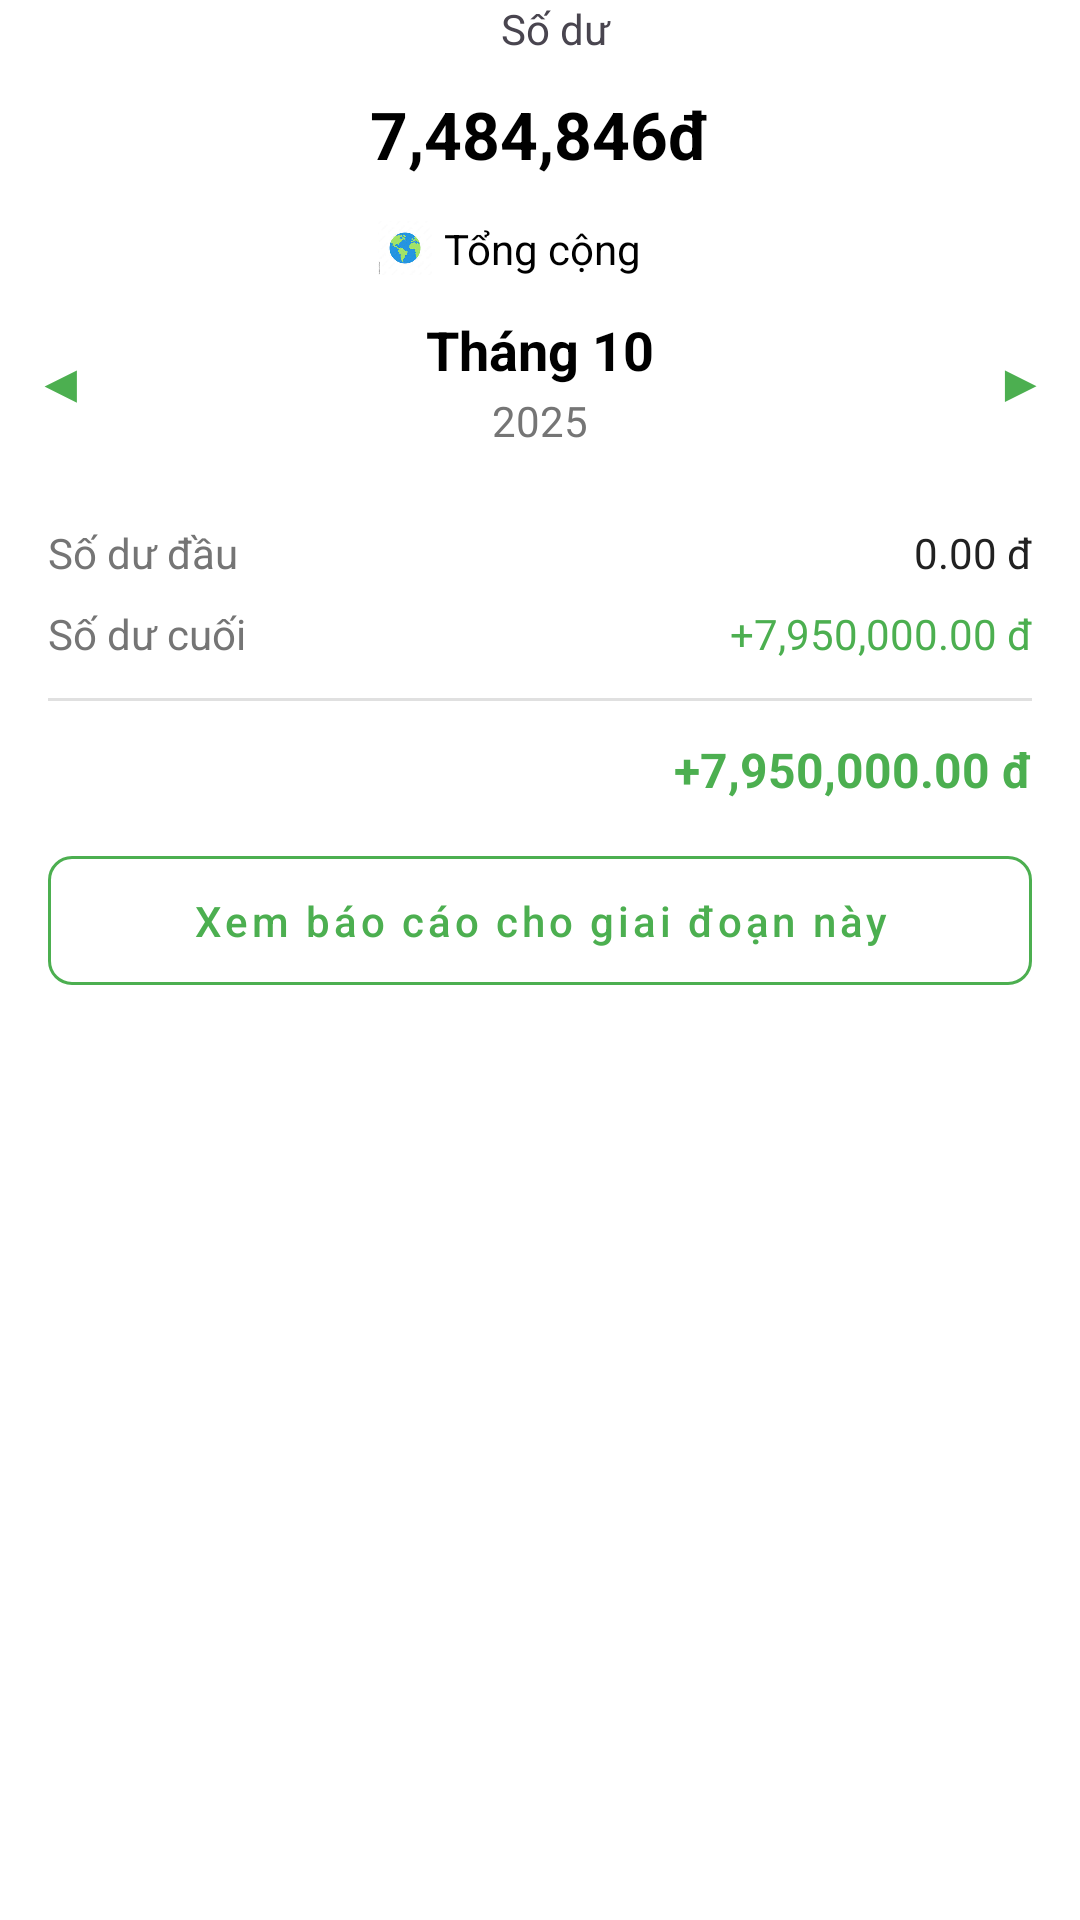

Locate icon controls on the screen. Image size 1080*1920, boxes as {"x1": x1, "y1": y1, "x2": x2, "y2": y2}.
globe: {"x1": 379, "y1": 232, "x2": 421, "y2": 274}
